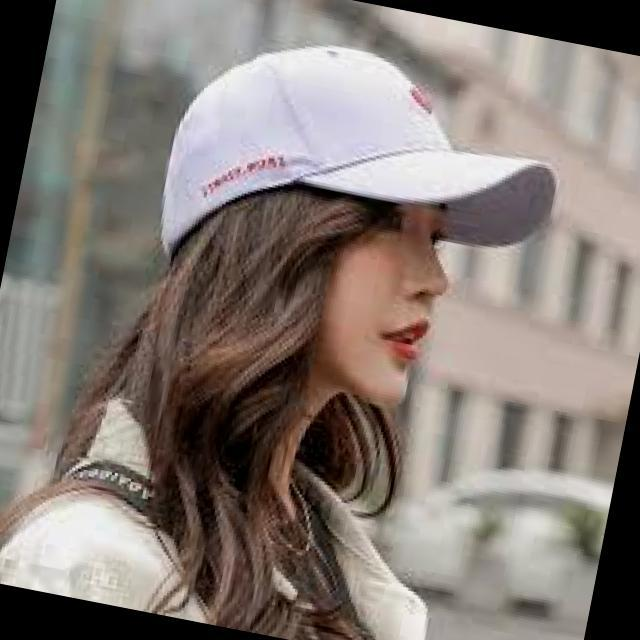cap: (111, 0, 593, 344)
